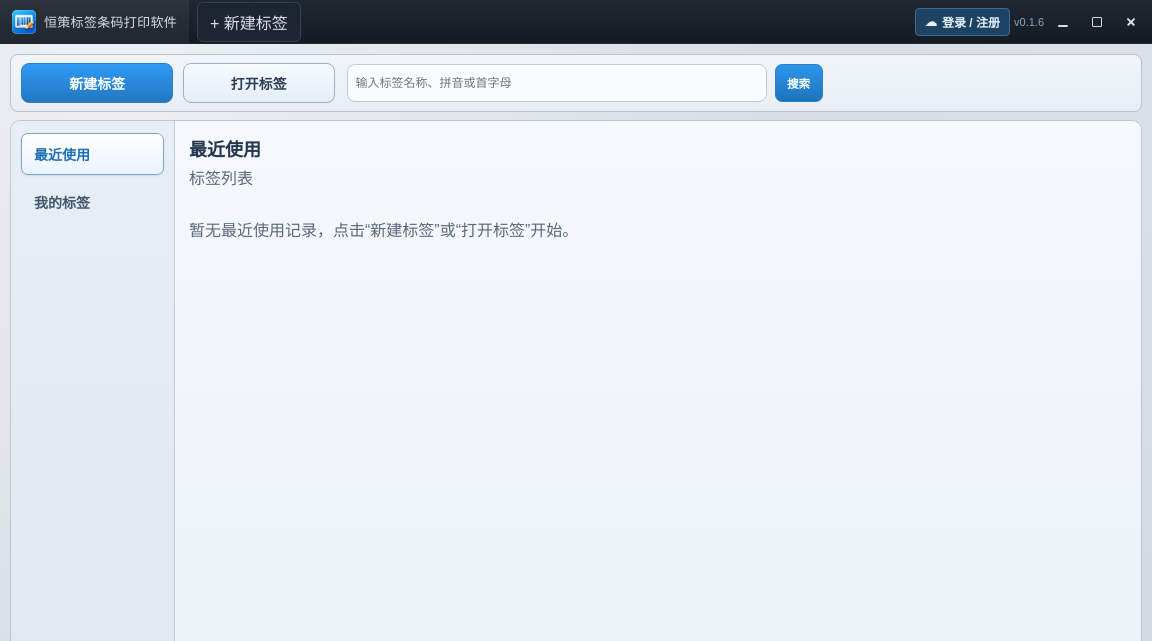
Scenario: Editor page shell › renders command bar and tab actions
The image size is (1152, 641).
Click the button with class "new-tab".
click(249, 22)  # box [197,2,301,42]
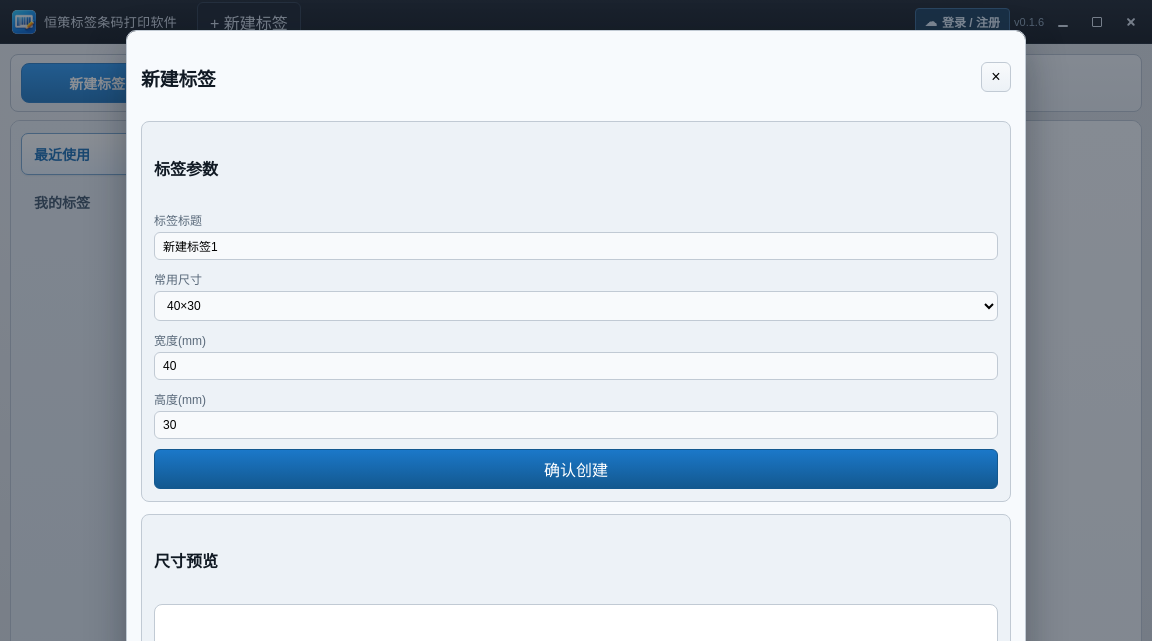
Check: the button "确认创建" is shown
Click the button "确认创建".
click(576, 469)  # box [154,449,998,489]
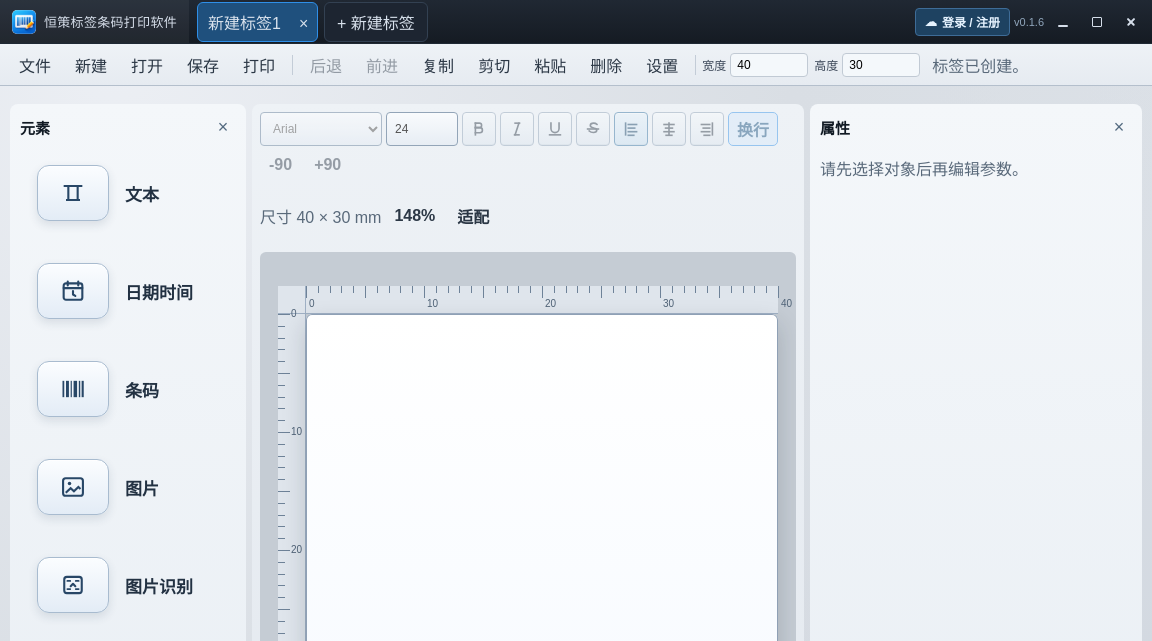
Check: the button "打印" is shown, box [232,46,286,82]
Check: the button "设置" is shown, box [635,46,689,82]
Check: the button with aria-label "Toggle wrap mode" is shown, box [728,112,778,146]
